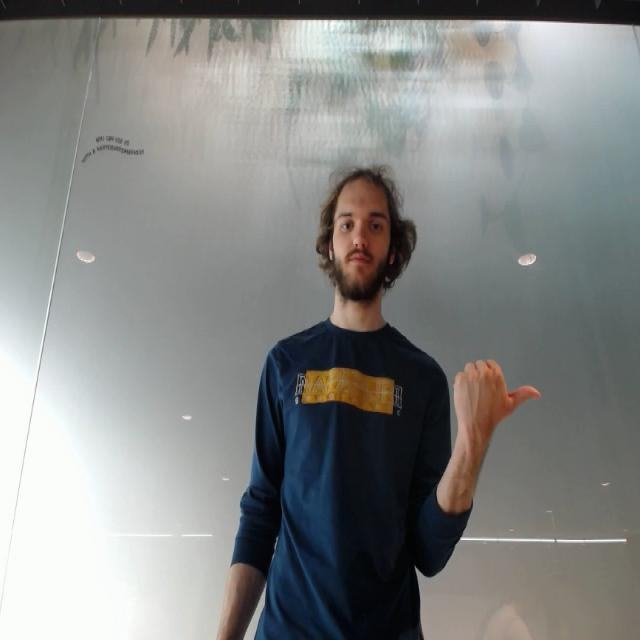right: (450, 353, 544, 441)
